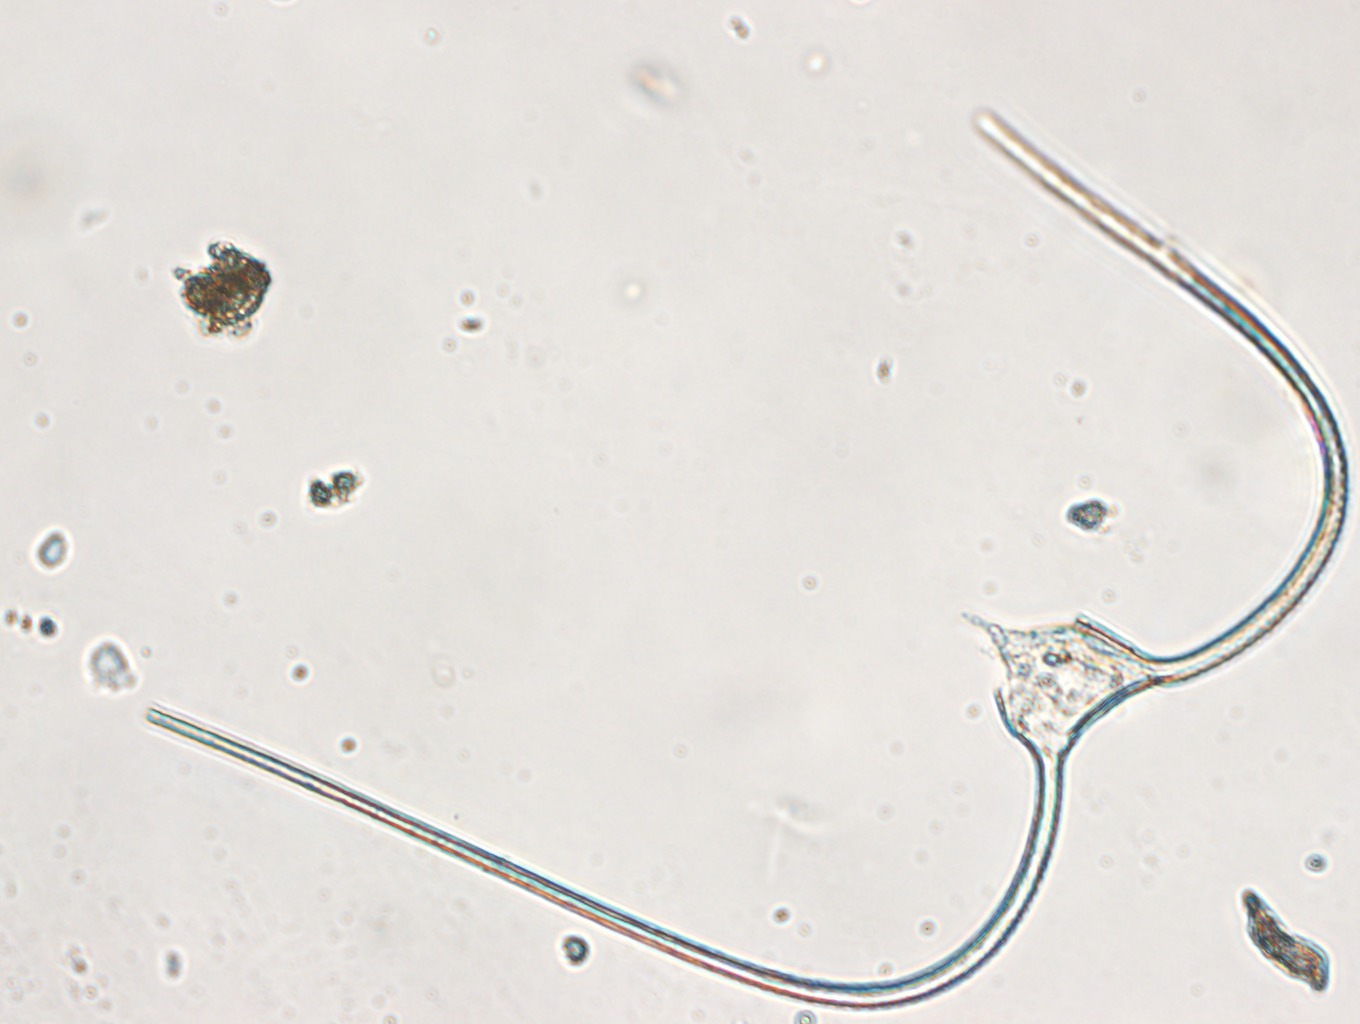ceratium trichoceros: (146, 108, 1351, 1013)
